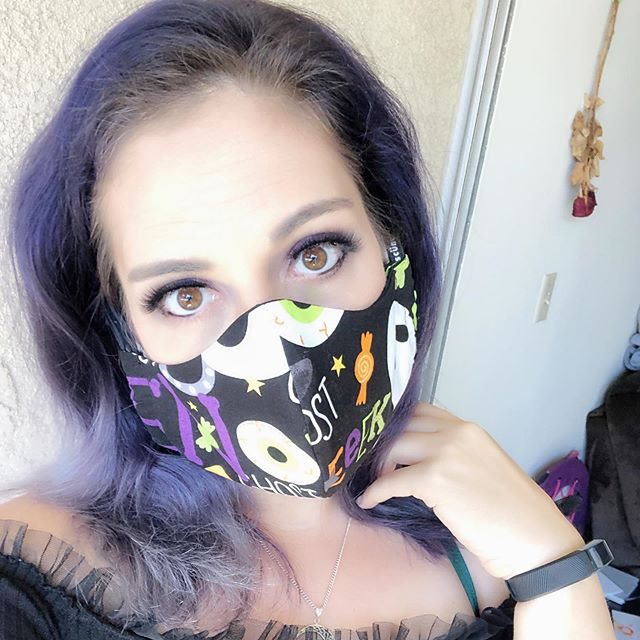homemade: (87, 277, 469, 502)
